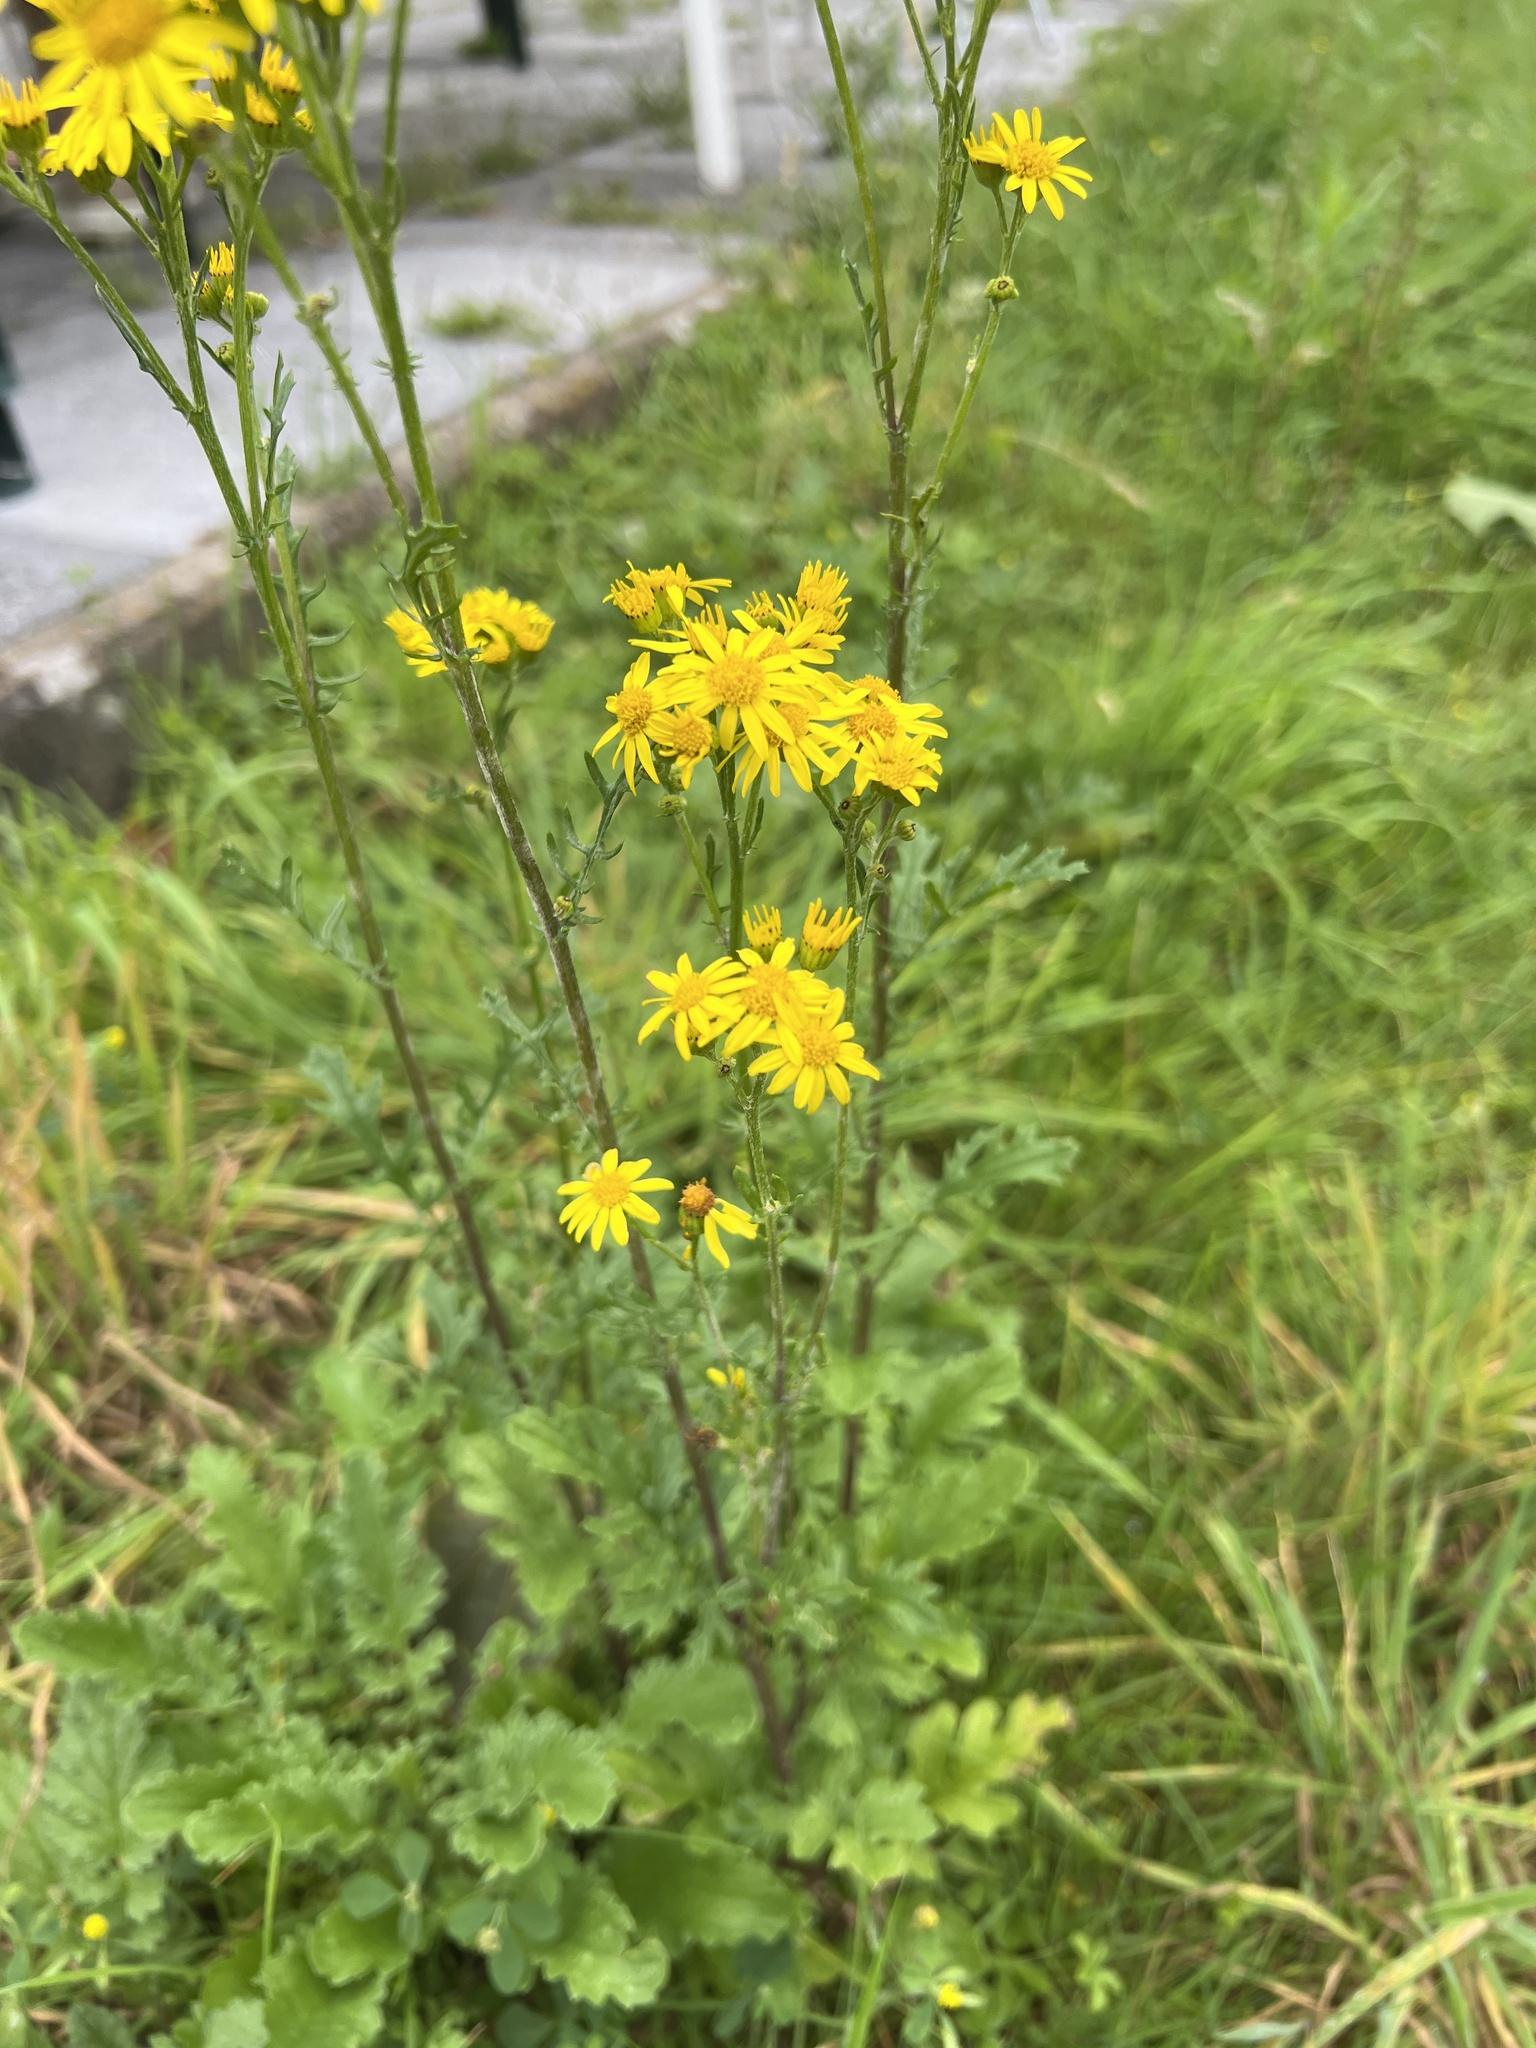Jacobaea vulgaris: (0, 0, 1129, 1843)
